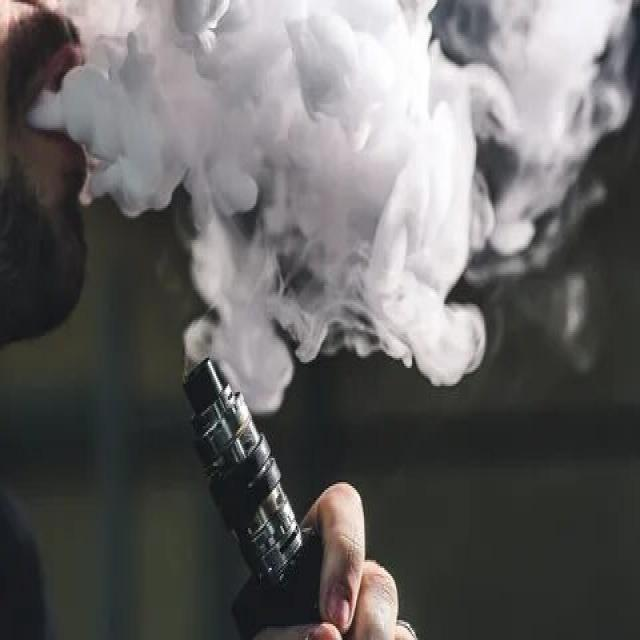cigarette: (175, 360, 346, 640)
